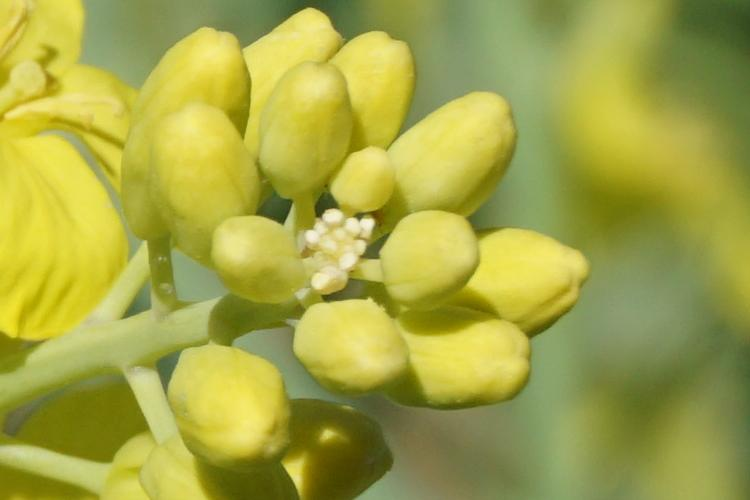bud: (113, 33, 251, 204), (387, 86, 535, 230), (458, 221, 600, 340), (257, 60, 361, 215), (174, 343, 298, 464), (255, 397, 397, 491), (395, 311, 537, 405), (316, 29, 418, 158), (158, 121, 260, 244), (292, 301, 412, 399), (368, 209, 476, 317), (215, 218, 307, 301), (333, 146, 399, 222)
yellow: (1, 4, 140, 339)
